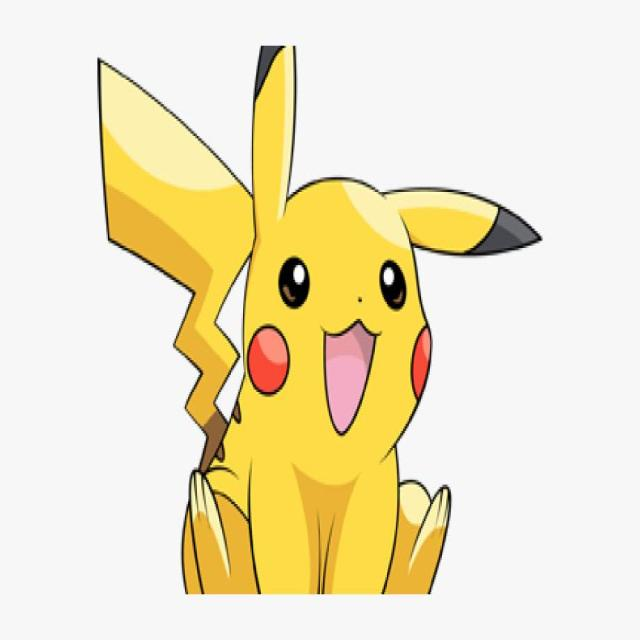pikachu: (100, 45, 542, 593)
